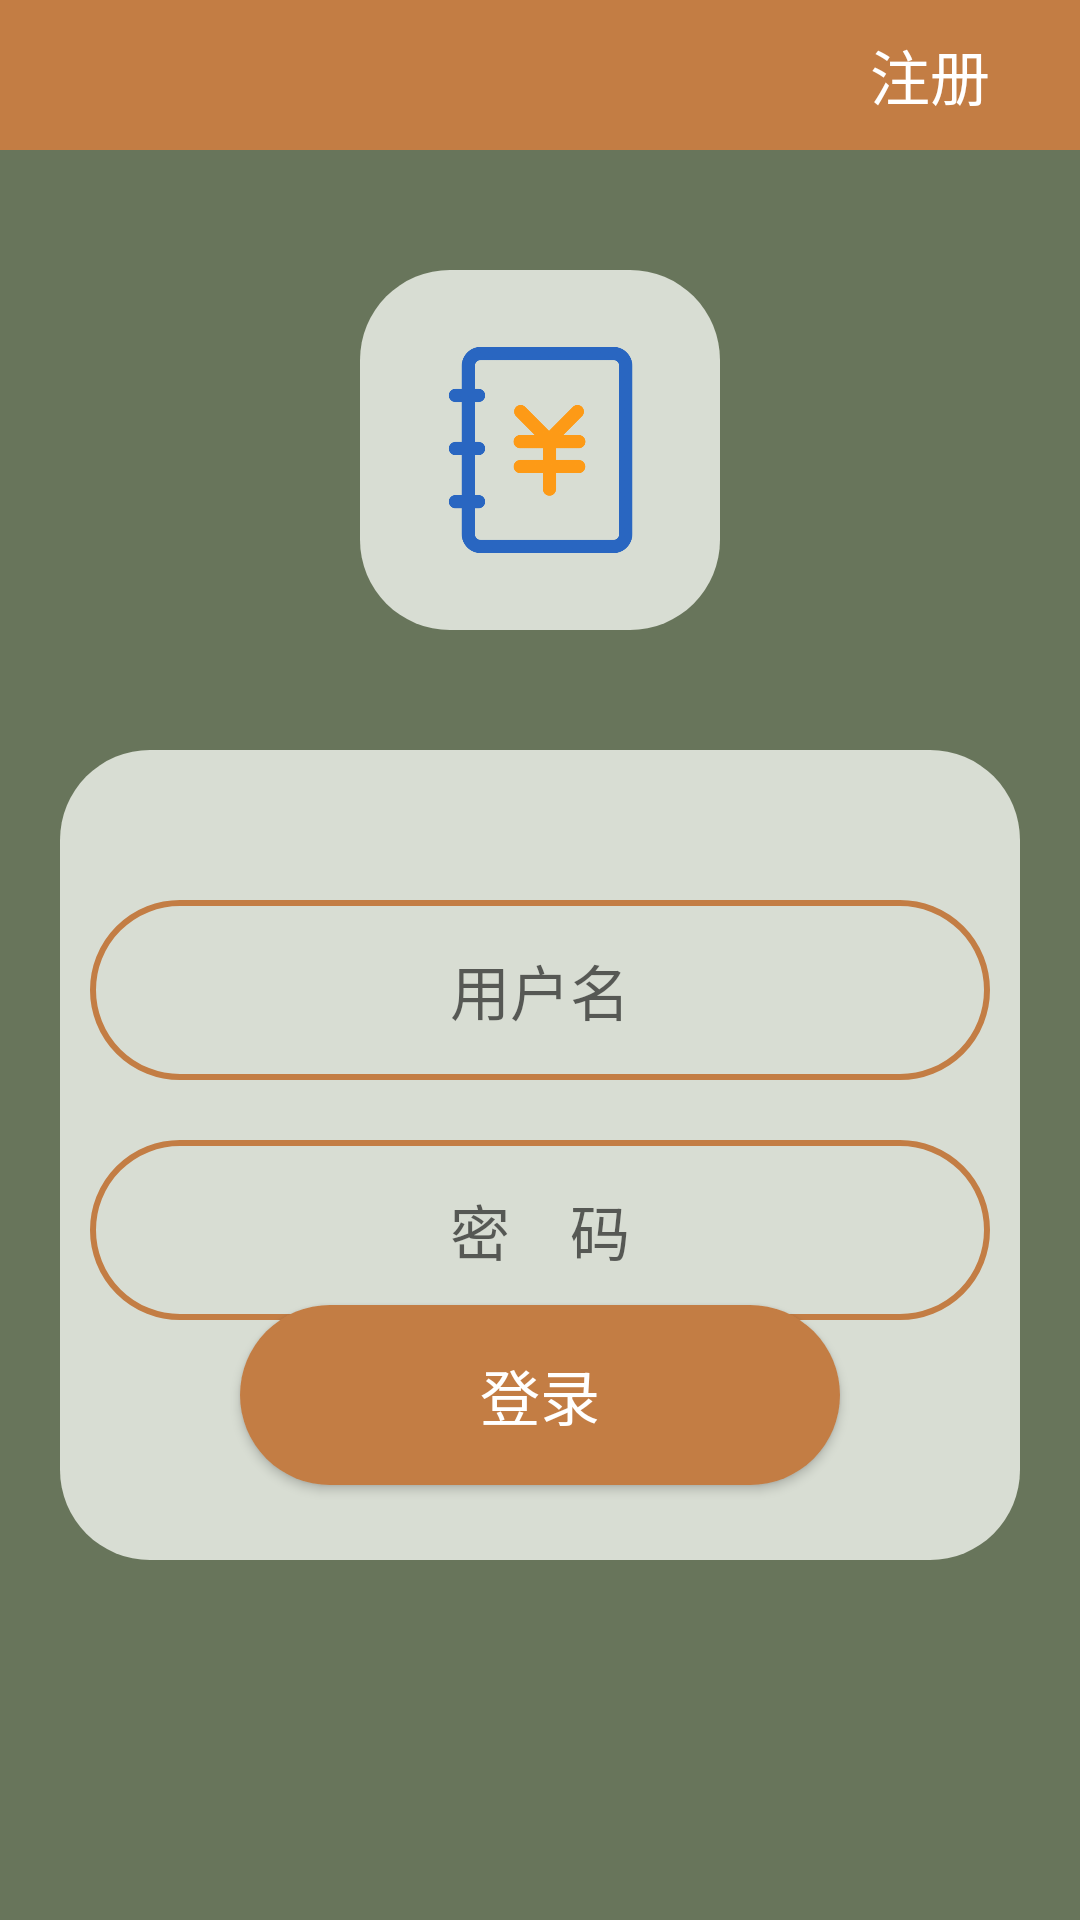

Icon bounding boxes for this 1080×1920 phone screenshot, format (x1=x1, y1=y1, x2=x2, y2=y2):
jizhang: (x1=360, y1=270, x2=720, y2=630)
